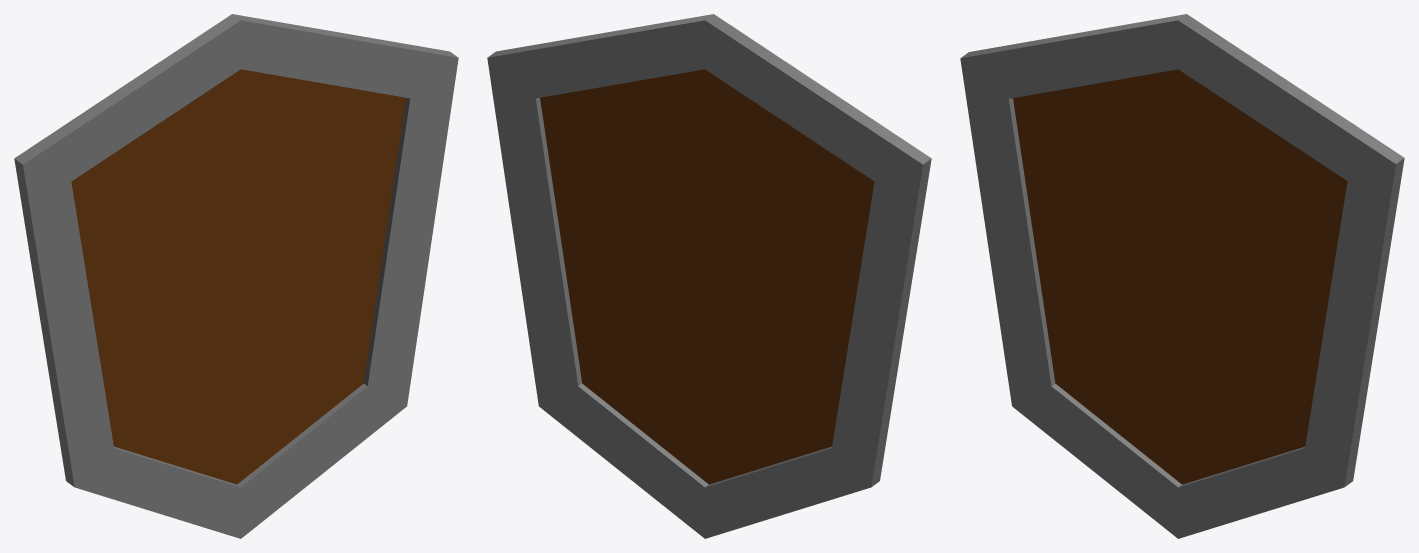
Rendered from Invulnerable.fbx.
The picture shows the model from 3 angles, left to right: view 1: azimuth 30°, elevation 25°; view 2: azimuth 150°, elevation 25°; view 3: azimuth 330°, elevation 25°; orthographic projection.
Visible parts, largest first — view 1: Box001; view 2: Box001; view 3: Box001.
Part boxes in pixels (<box>): Box001: <box>14,14,458,538</box>; Box001: <box>487,14,931,538</box>; Box001: <box>960,14,1404,538</box>.
Bounding box in the file's own units: 87.79 × 3.02 × 99.84.
